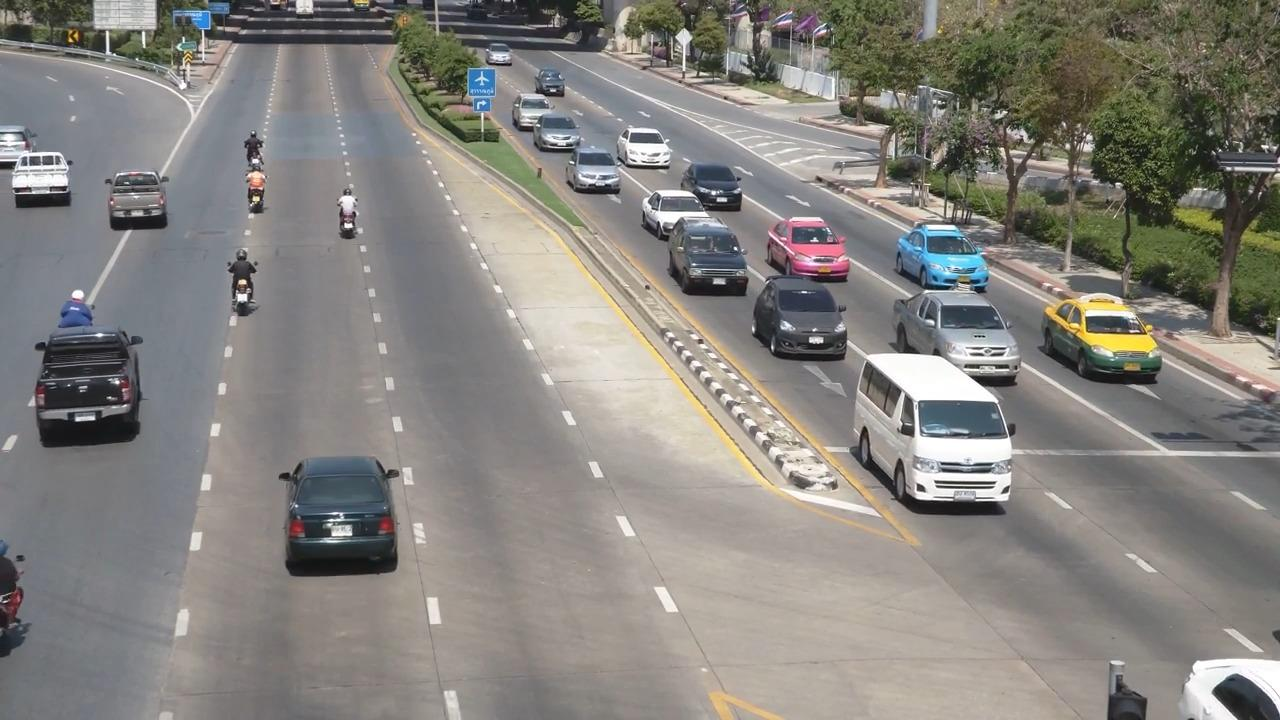CAR: (847, 348, 1036, 526), (261, 445, 408, 590), (885, 284, 1043, 392), (22, 329, 141, 456), (1034, 283, 1172, 384), (746, 271, 855, 364), (883, 218, 1009, 298), (765, 199, 861, 293), (98, 172, 190, 260), (672, 218, 761, 299), (2, 141, 79, 216), (635, 180, 709, 239), (679, 155, 747, 214), (609, 118, 674, 174), (562, 141, 623, 199), (533, 109, 583, 154), (506, 91, 556, 133), (536, 65, 578, 102), (479, 40, 514, 67)
MOTOR: (215, 244, 270, 322), (41, 277, 90, 339), (238, 165, 279, 222), (333, 178, 370, 239), (238, 124, 278, 176)
